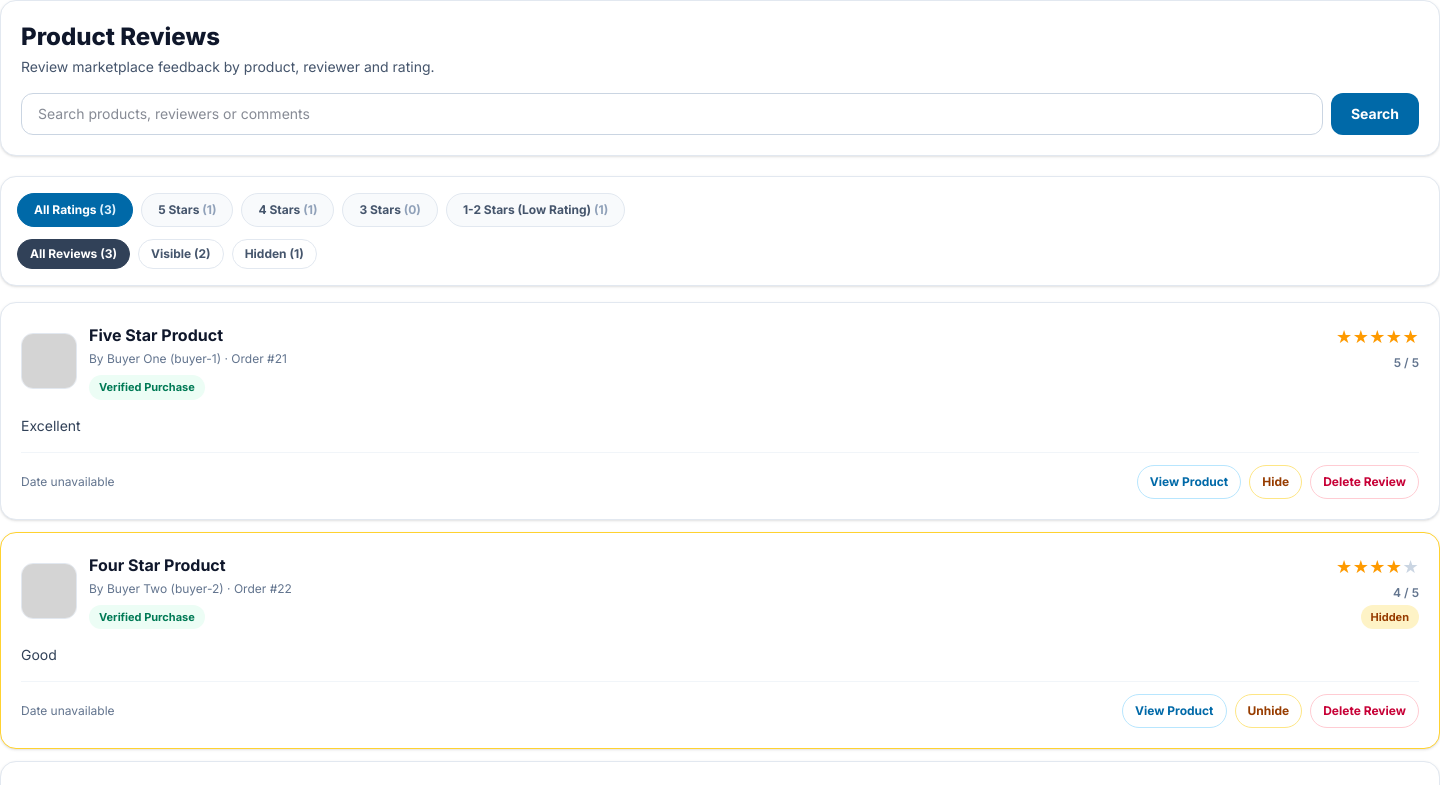
it: AdminProductReviewsPage › renders verified purchase cards with stars, thumbnails, and rating/visibility filters
The image size is (1440, 785).
expect the heading "Five Star Product" is shown: met, box [89,325,223,345]
expect the element named "5 out of 5 stars" is shown: met, box [1336,323,1419,351]
Click the button "5 Stars (1)": (187, 210) [141,193,234,227]
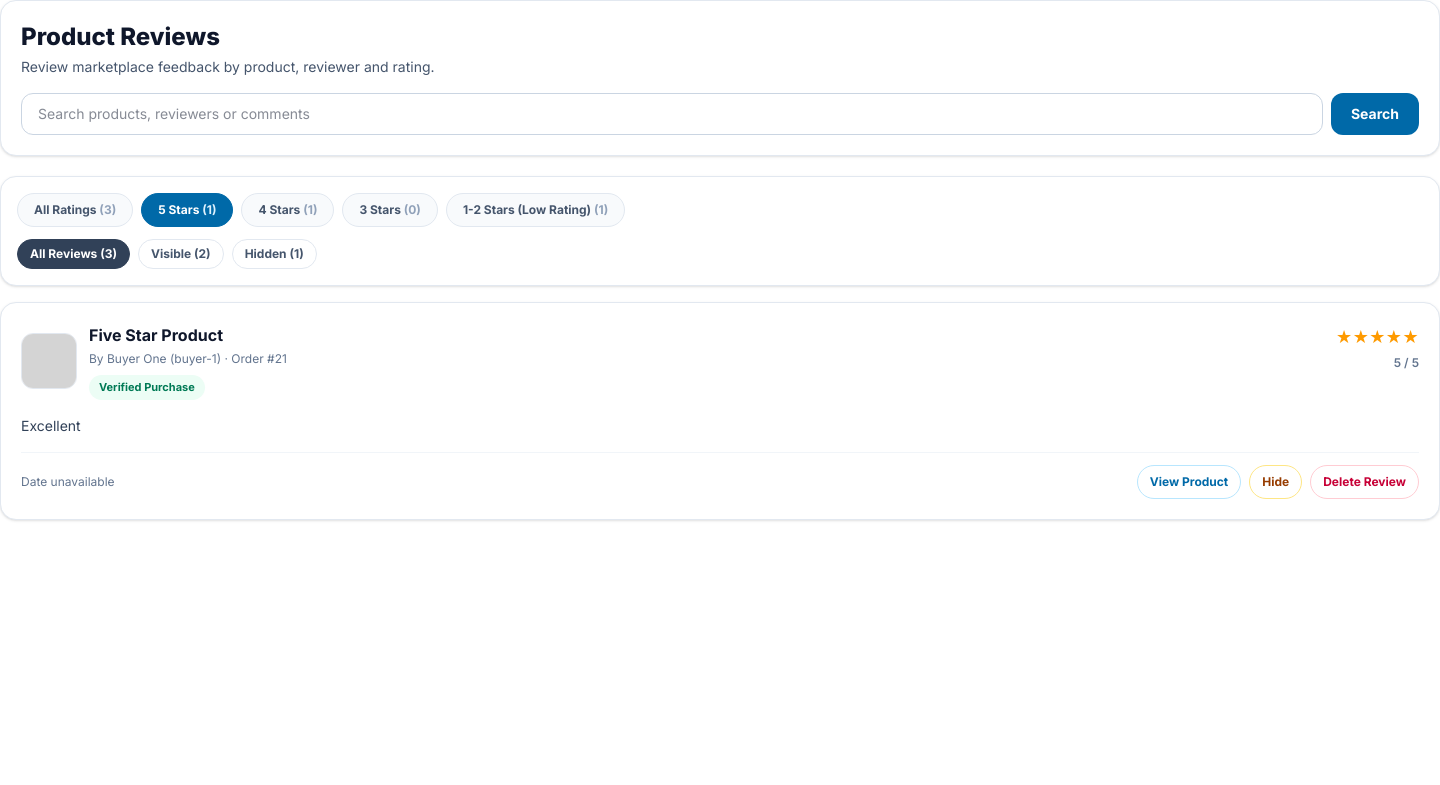
expect the heading "Five Star Product" is shown: met, box [89,325,223,345]
expect the heading "Four Star Product" is gone: met
Click the button "All Ratings (3)": (75, 210) [17,193,133,227]
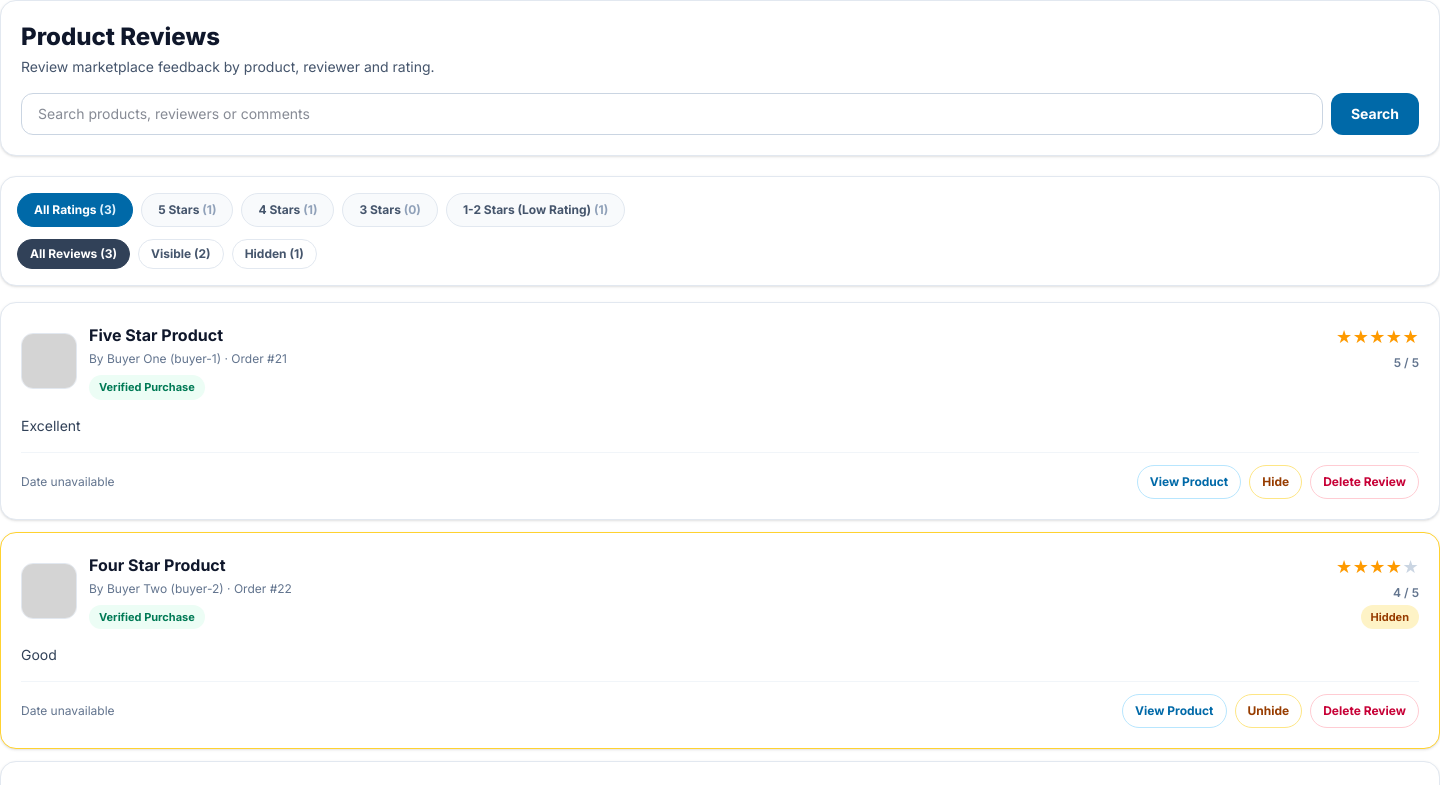
Click the button "Hidden (1)": (274, 254) [232,239,317,269]
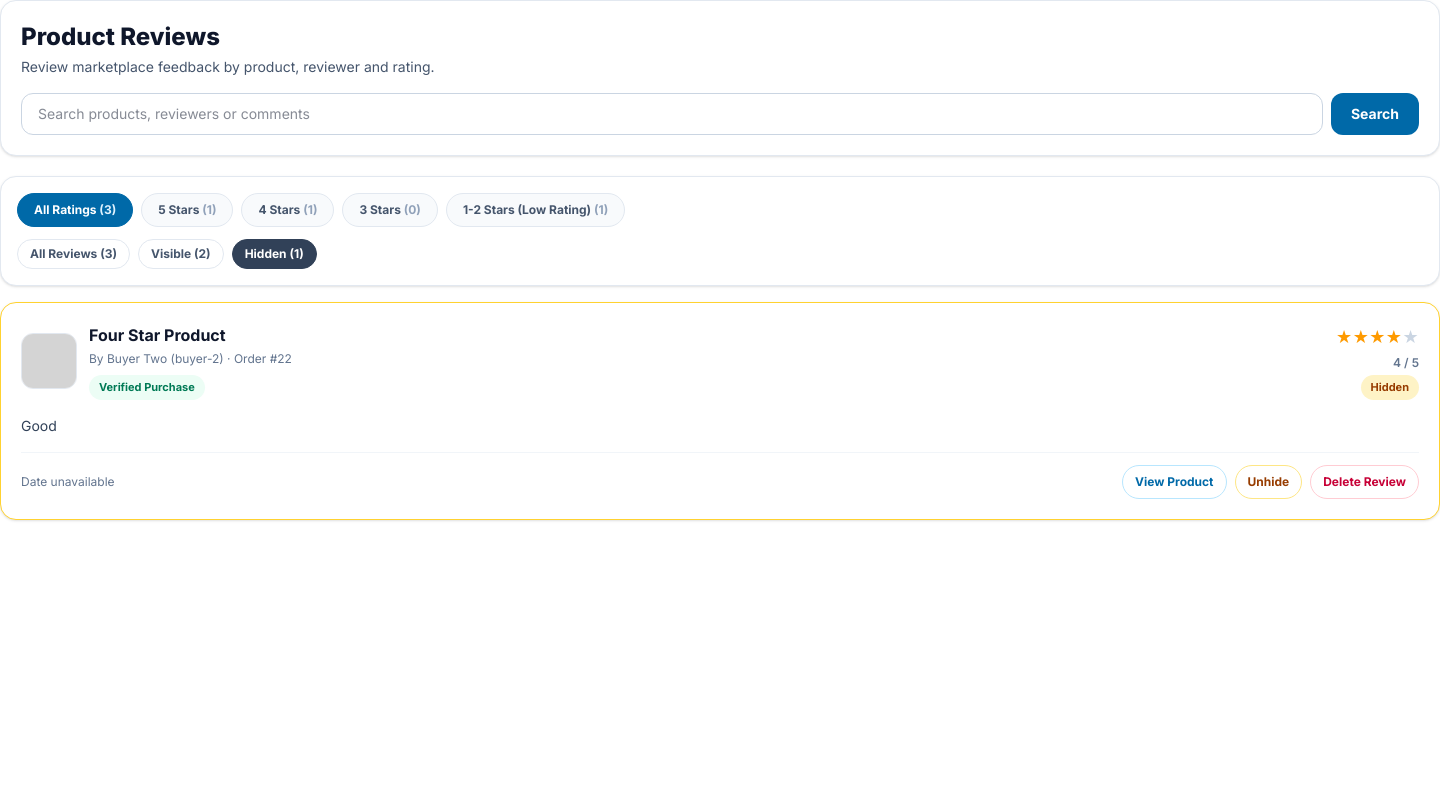
expect the heading "Four Star Product" is shown: met, box [89,325,226,345]
expect the heading "Five Star Product" is gone: met
